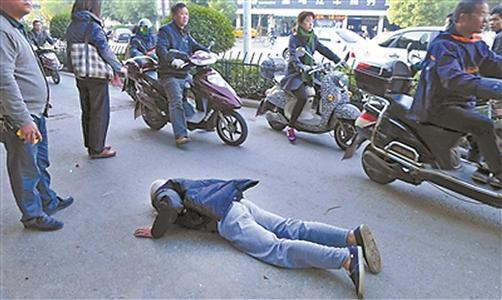Fall-Detected: (123, 166, 384, 294)
